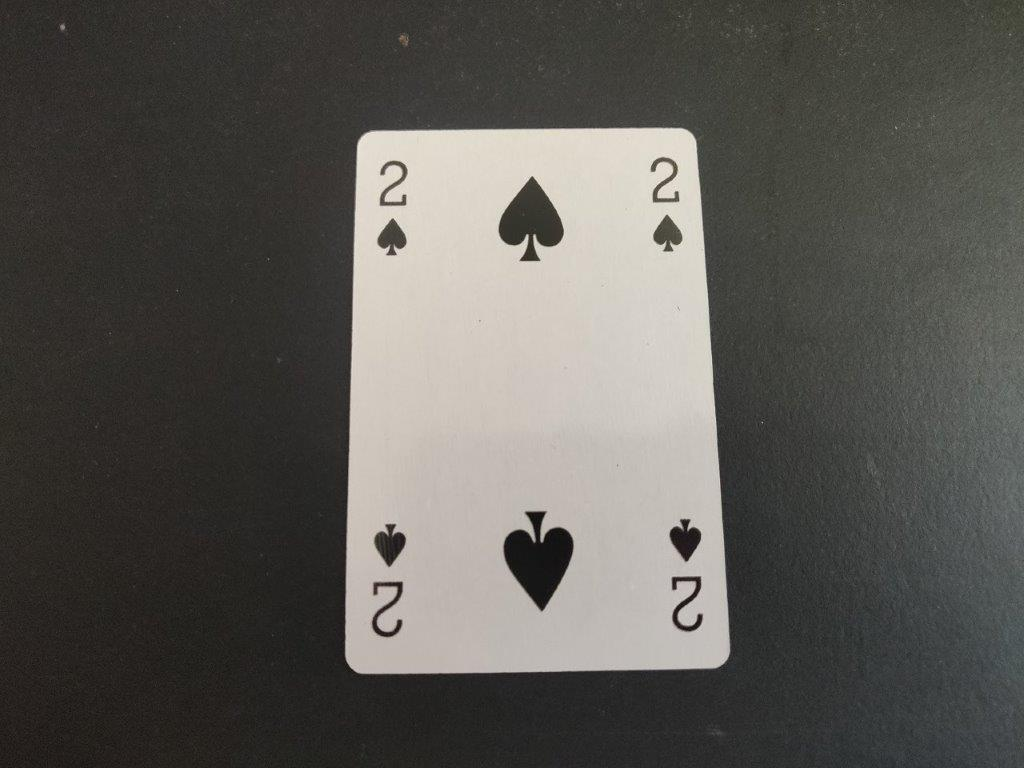2S: (370, 155, 415, 264), (646, 154, 688, 258)
